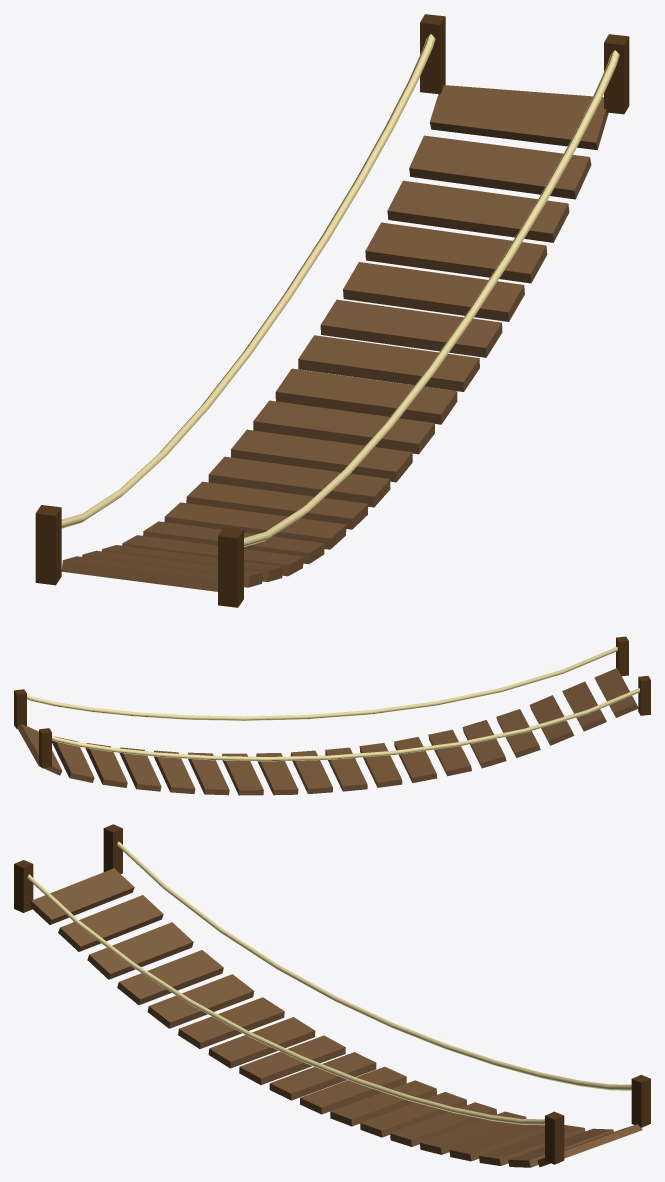
Rendered from Bridge.fbx.
3 renders of one model, top to bottom at view 1: azimuth 30°, elevation 25°; view 2: azimuth 150°, elevation 25°; view 3: azimuth 270°, elevation 25°, orthographic. The views are drawn at different scales.
Visible parts, largest first — view 1: Bridge, BézierCurve.001, BézierCurve.002, Cube.003, Cube.004, Cube.001, Cube.002; view 2: Bridge, BézierCurve.001, BézierCurve.002, Cube.001, Cube.003, Cube.004, Cube.002; view 3: Bridge, BézierCurve.002, BézierCurve.001, Cube.002, Cube.001, Cube.004, Cube.003.
Boxes of the visible parts, x1,y1,x2,y2 form: Bridge: [61, 85, 608, 591]; BézierCurve.001: [244, 50, 619, 546]; BézierCurve.002: [61, 34, 435, 528]; Cube.003: [35, 505, 61, 585]; Cube.004: [218, 527, 243, 607]; Cube.001: [420, 14, 445, 94]; Cube.002: [604, 34, 629, 114]; Bridge: [17, 668, 638, 795]; BézierCurve.001: [27, 646, 617, 720]; BézierCurve.002: [52, 688, 639, 761]; Cube.001: [39, 728, 51, 768]; Cube.003: [638, 676, 650, 715]; Cube.004: [616, 636, 628, 676]; Cube.002: [14, 689, 26, 729]; Bridge: [30, 868, 642, 1167]; BézierCurve.002: [117, 841, 631, 1090]; BézierCurve.001: [27, 874, 544, 1125]; Cube.002: [545, 1111, 564, 1164]; Cube.001: [631, 1075, 650, 1127]; Cube.004: [14, 860, 33, 912]; Cube.003: [103, 824, 122, 873].
Size of the model in its own units: 1235 by 223 by 1124.
